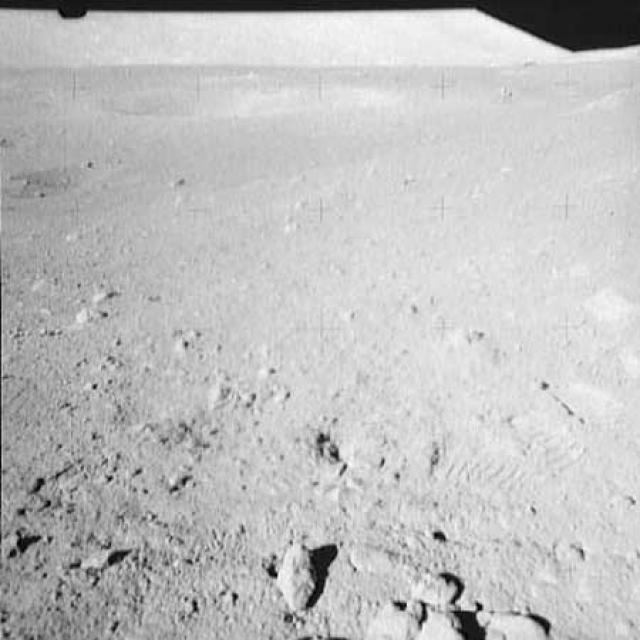crater: (93, 81, 357, 115)
rock: (270, 536, 324, 612), (369, 602, 464, 638), (476, 604, 554, 638), (414, 569, 462, 602)
